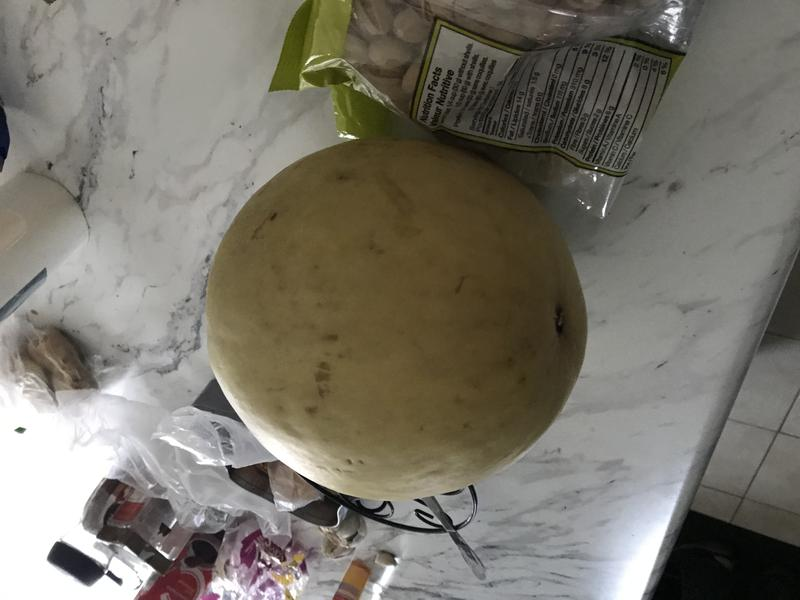honeydew: (189, 121, 599, 511)
